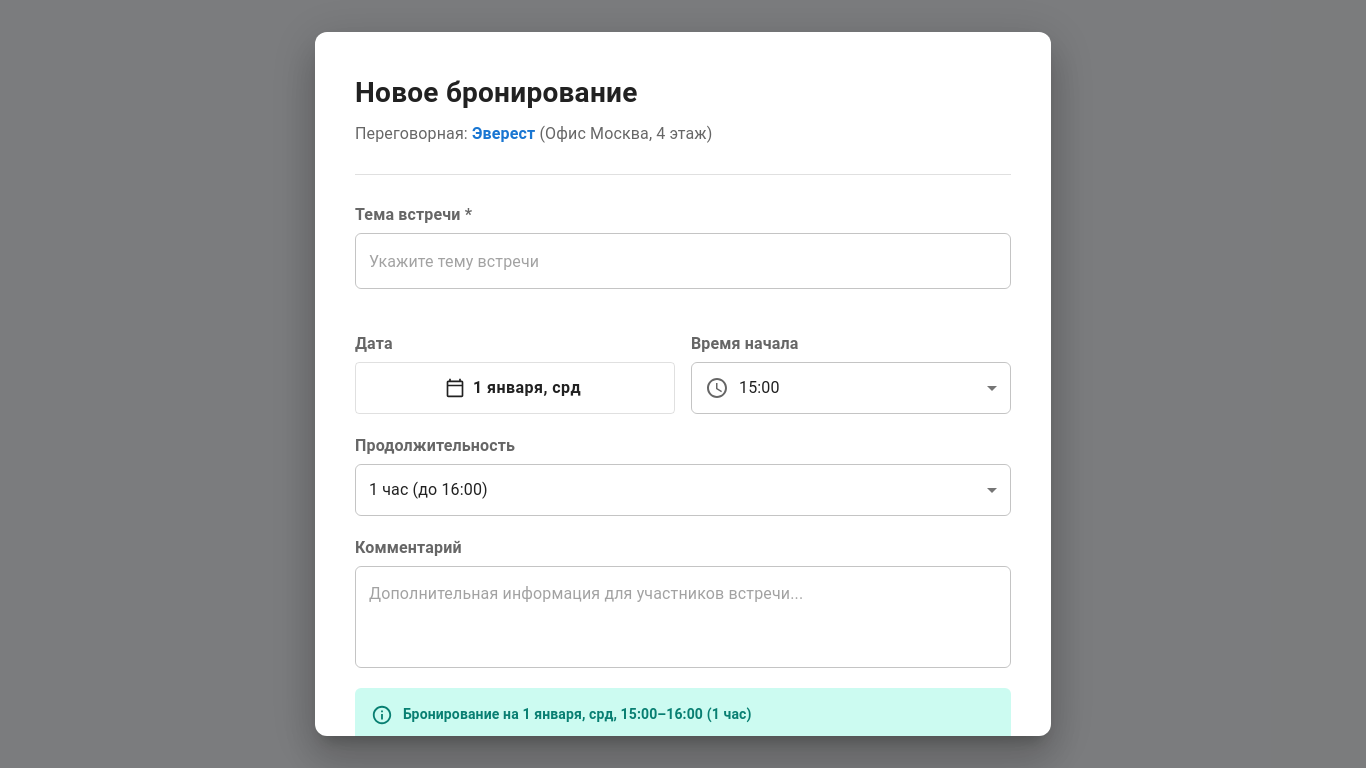
Test: BookingModal › rejects a booking in the past
The image size is (1366, 768).
Type "Планирование" into the field with placeholder "Укажите тему встречи". click: (683, 261)
box: left=355, top=233, right=1011, bottom=289
(page scrolled)
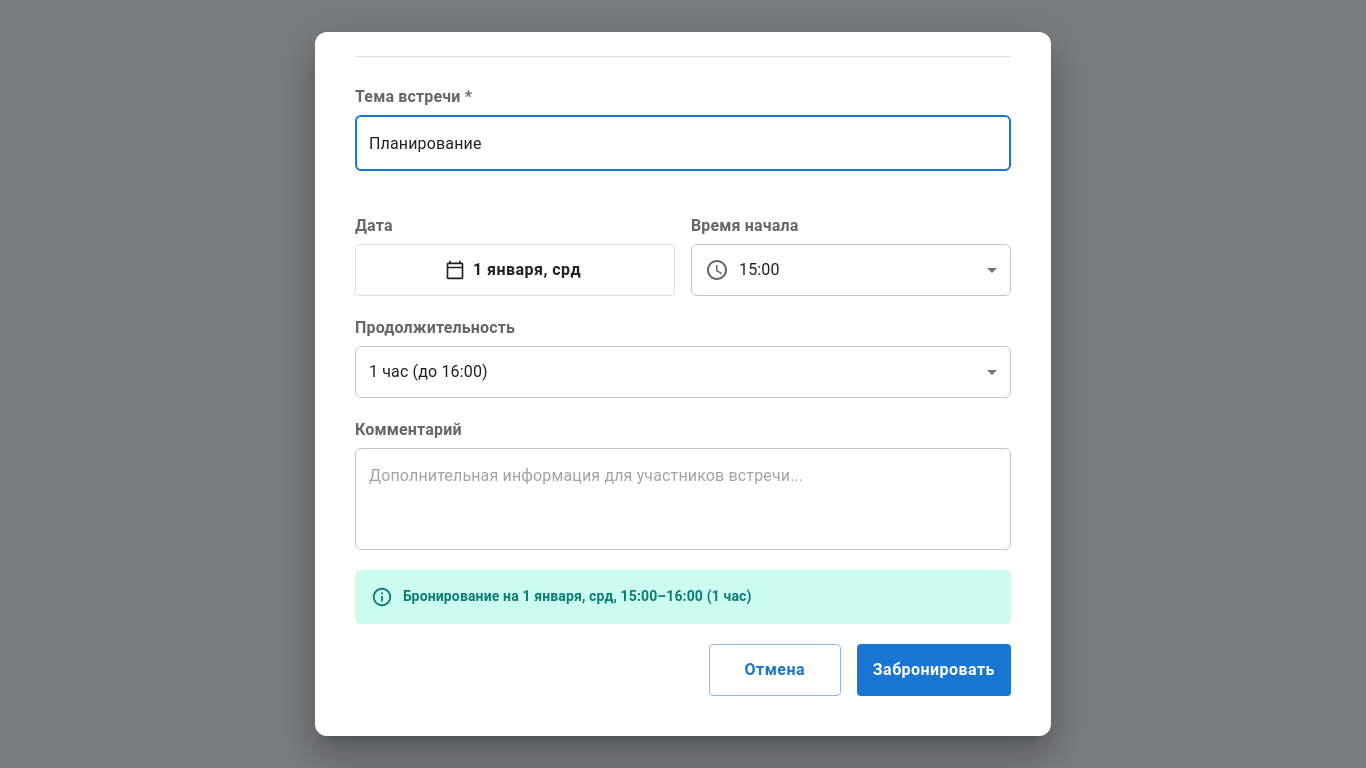
Click the button "Забронировать". click: (934, 670)
box: left=857, top=644, right=1011, bottom=696
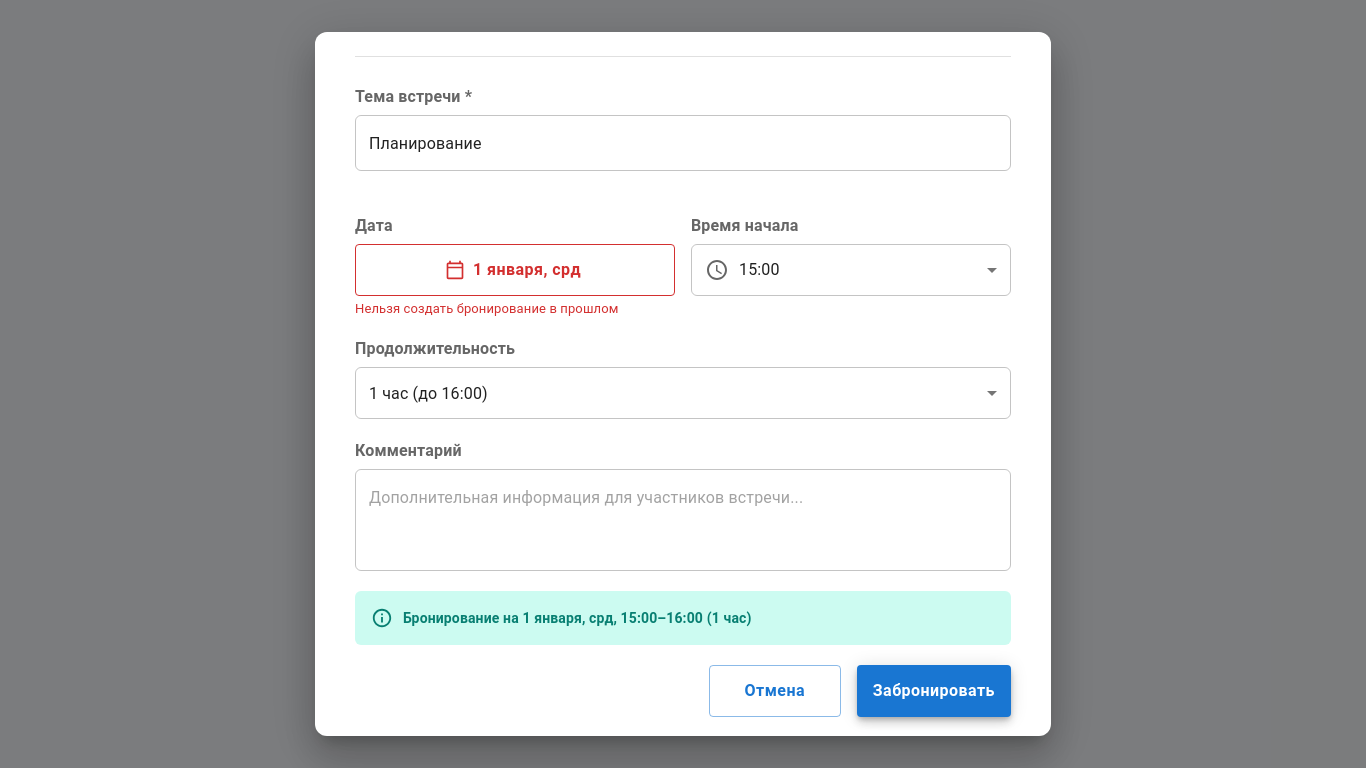
Expected: the text "Нельзя создать бронирование в прошлом" is shown, left=355, top=301, right=618, bottom=316
